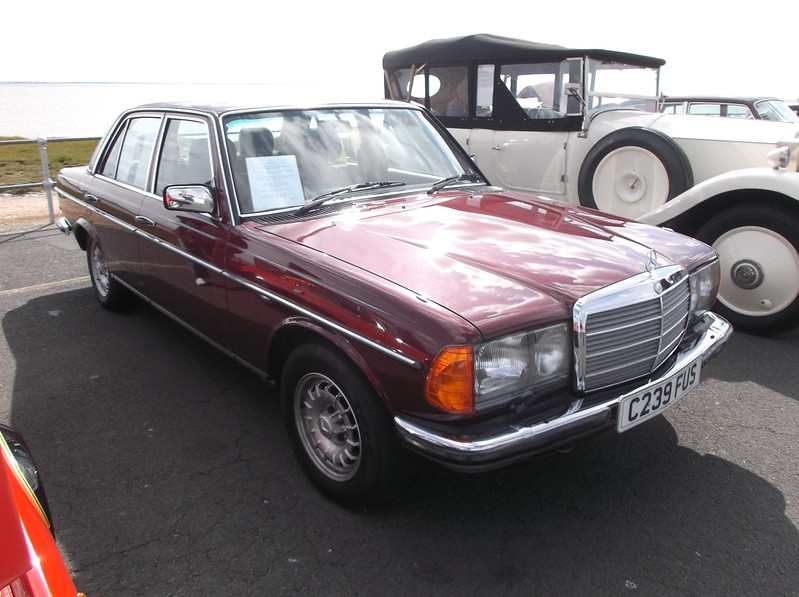number_plate: (614, 355, 740, 427)
